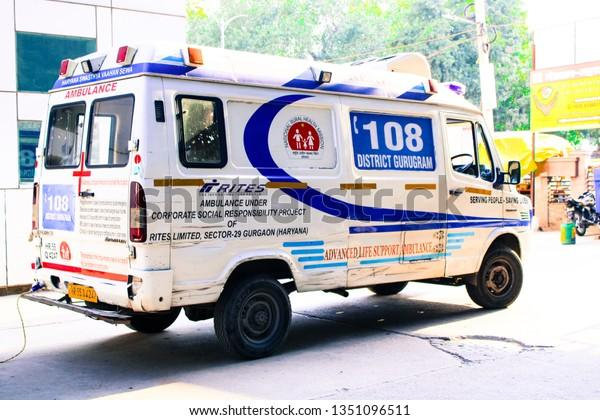ER: (31, 42, 534, 356)
